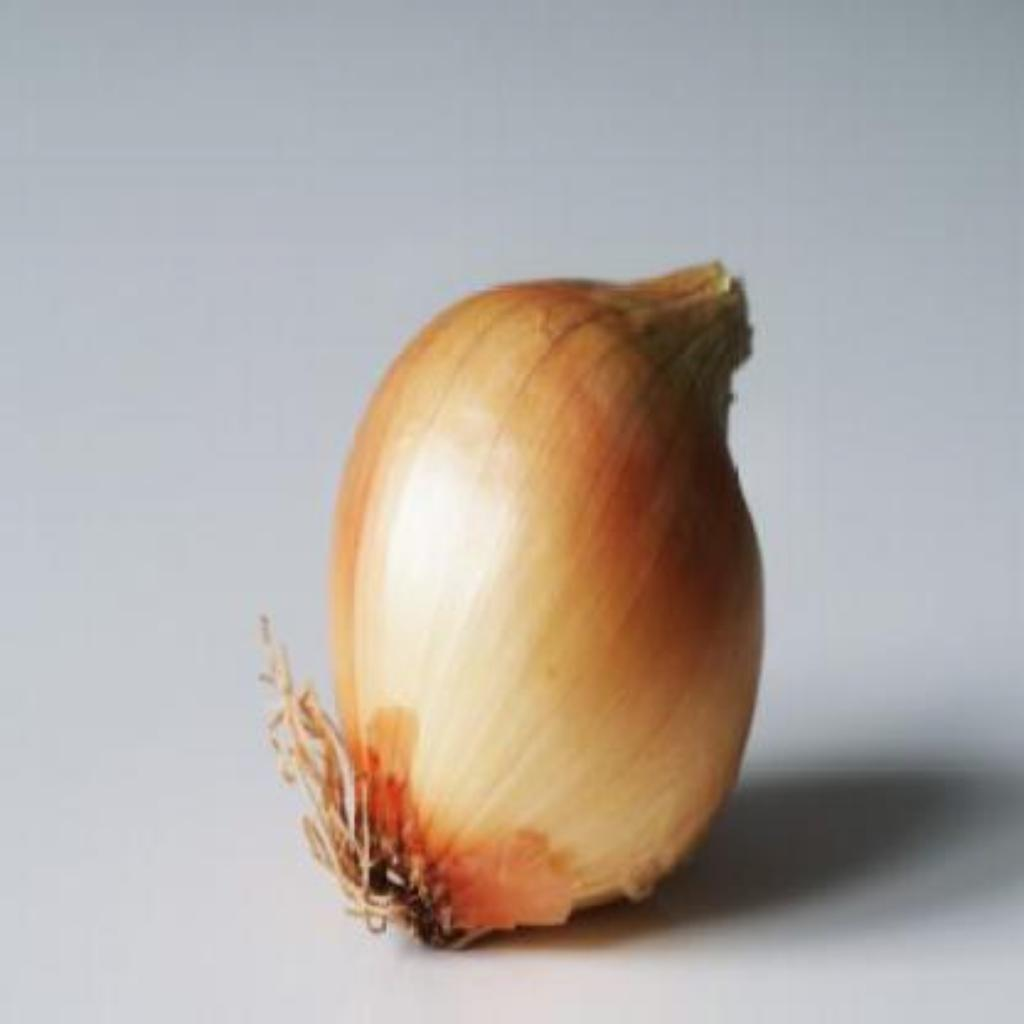Onion: (263, 263, 766, 949)
